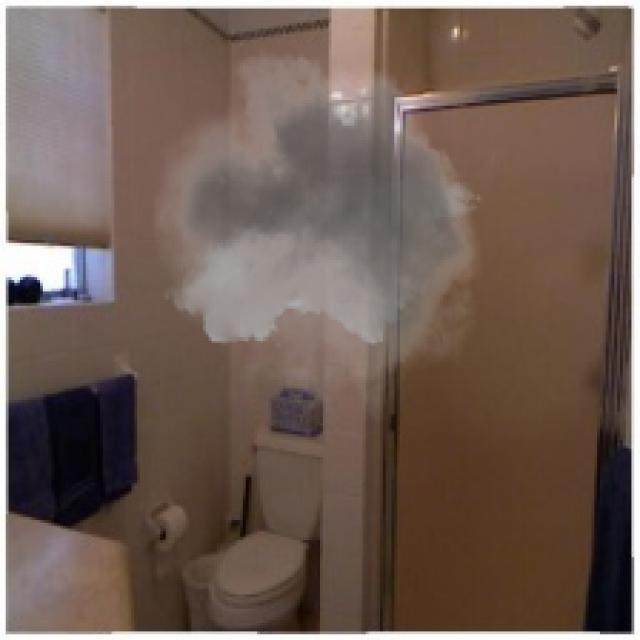Smoke: (152, 34, 494, 423)
